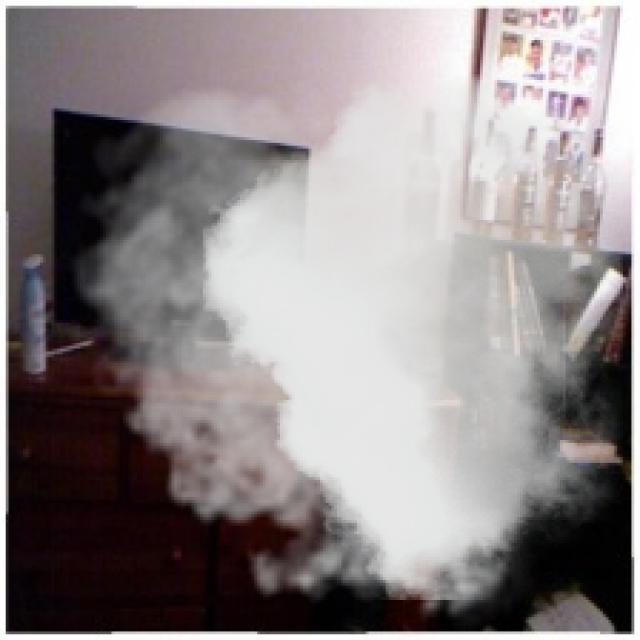Smoke: (54, 75, 623, 634)
